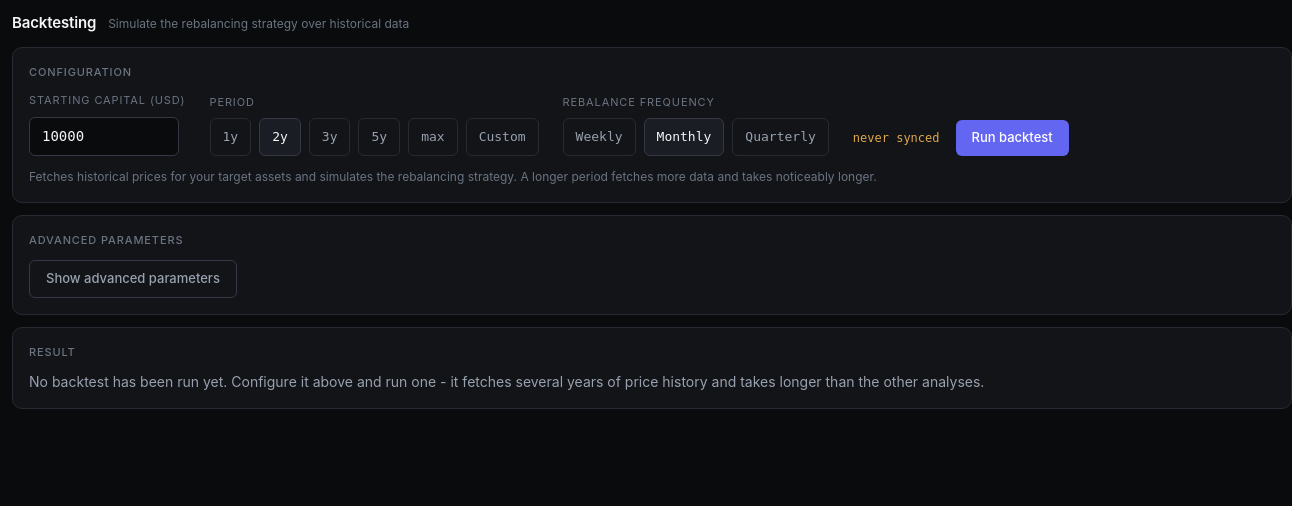
Test: Backtest run payload › disables Run and hints on a bad custom period
Expected: the button "Run backtest" is shown, [956, 120, 1069, 156]
Click the button "Custom": (502, 137) [466, 118, 539, 156]
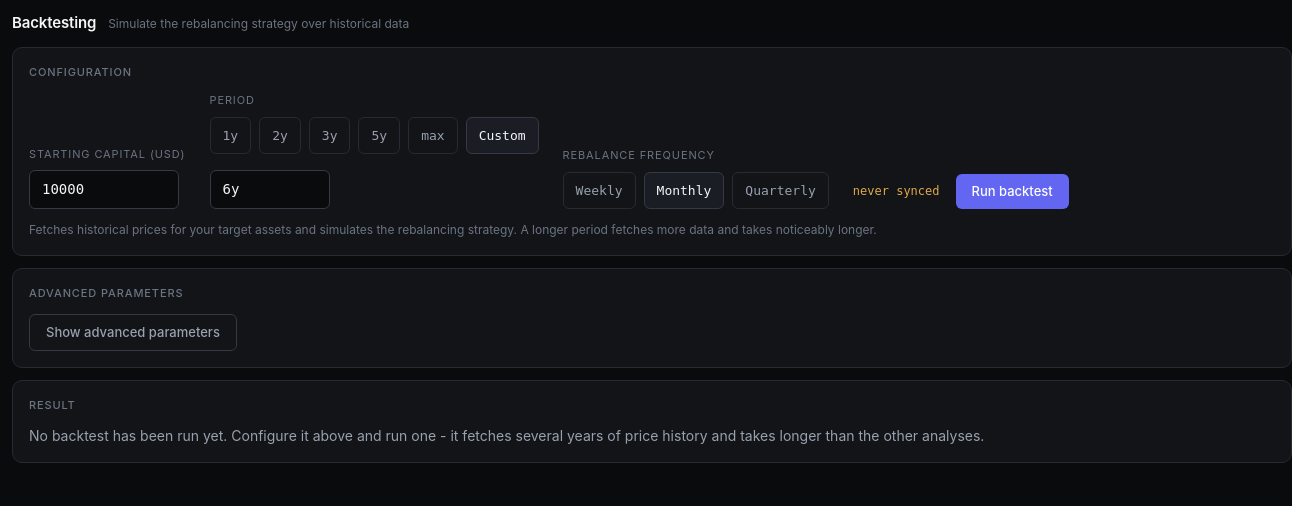
In the field named "Custom period": (270, 190) [210, 170, 330, 209], type "decade"
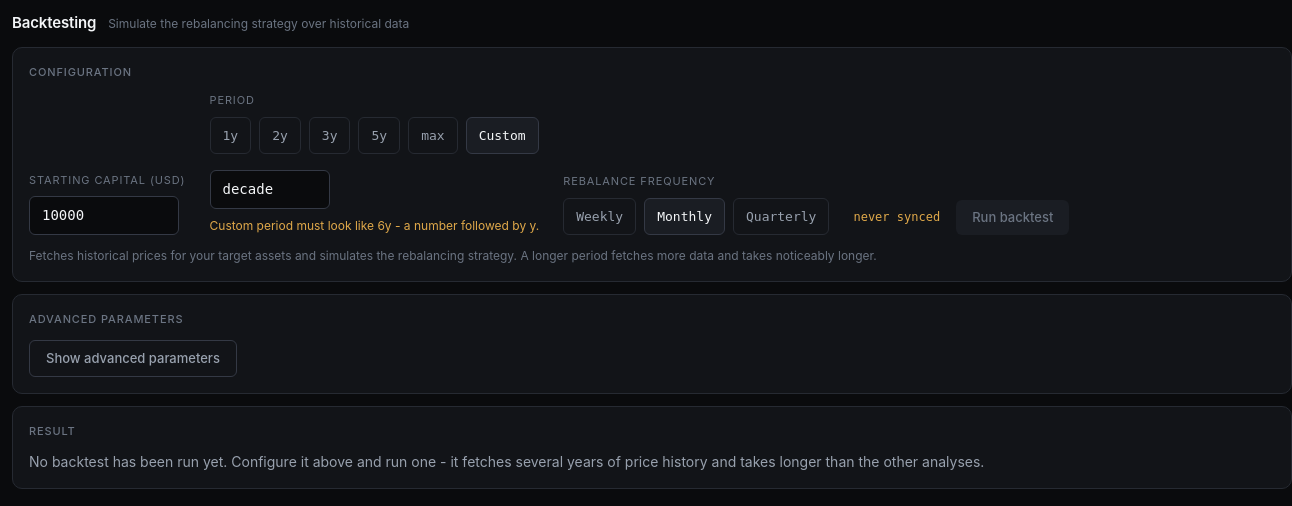
Expected: the button "Run backtest" is disabled, [956, 200, 1069, 235]
Expected: the text "Custom period must look like 6y - a number followed by y." is shown, [210, 217, 539, 235]
Replace the text in the field named "Custom period" with "6y": (270, 190) [210, 170, 330, 209]
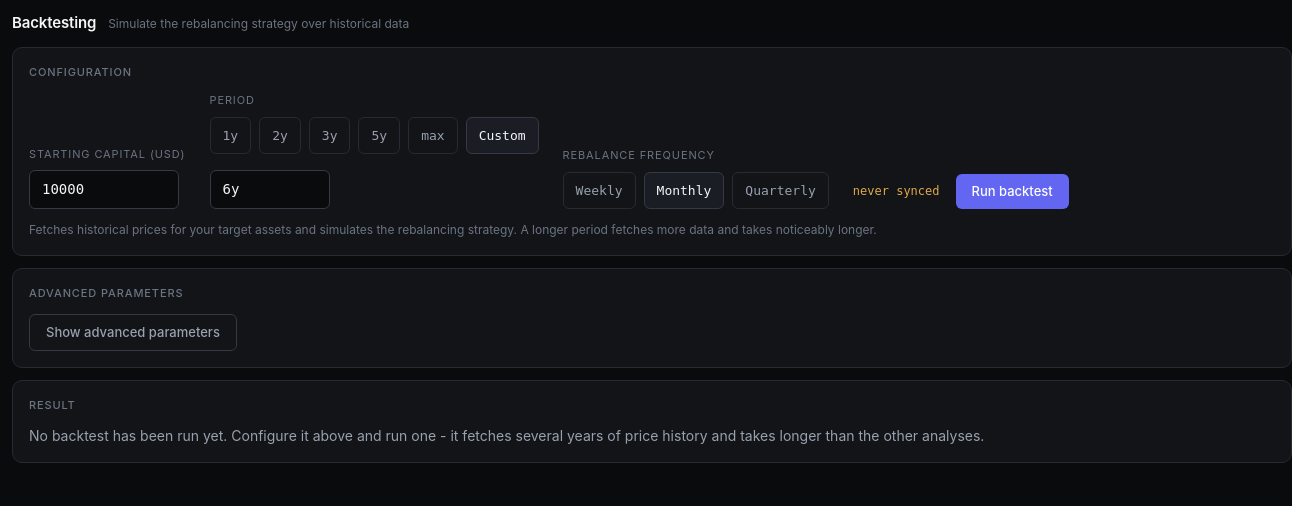
Expected: the button "Run backtest" is enabled, [956, 174, 1069, 209]
